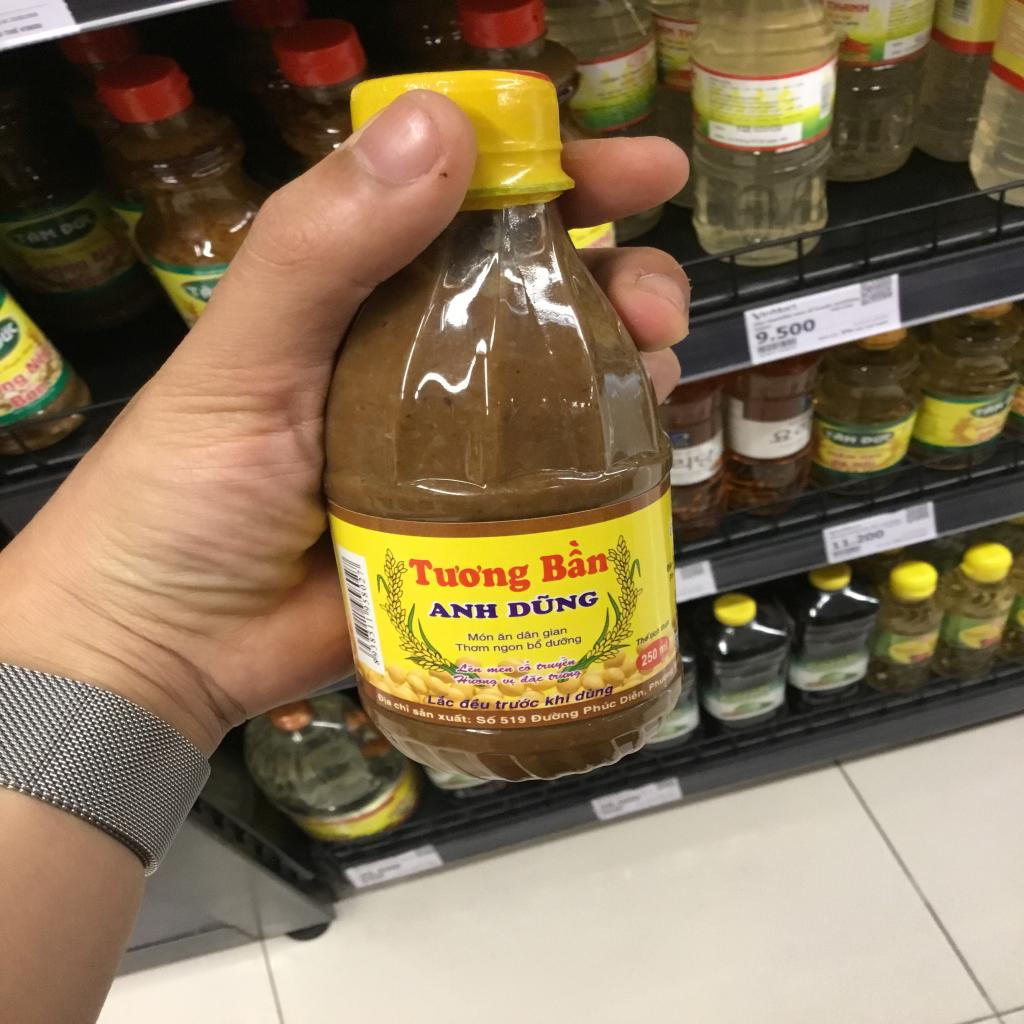text: (407, 554, 532, 594), (535, 535, 610, 583), (505, 588, 601, 619), (427, 601, 499, 619), (56, 210, 97, 238), (10, 224, 60, 246), (528, 708, 581, 726), (775, 318, 817, 340), (0, 318, 23, 356), (536, 654, 578, 674), (575, 684, 616, 704), (0, 370, 32, 395), (646, 666, 674, 694), (450, 674, 498, 688), (582, 698, 619, 716), (494, 697, 540, 711), (616, 686, 648, 706), (458, 697, 492, 713), (426, 692, 457, 709), (546, 669, 582, 683), (185, 282, 212, 300), (856, 529, 886, 545), (544, 636, 583, 648), (640, 646, 659, 669), (544, 692, 571, 707), (491, 644, 525, 655), (437, 712, 468, 724), (454, 643, 490, 653), (542, 626, 568, 639), (518, 673, 544, 686), (455, 662, 483, 674), (411, 706, 435, 720), (465, 632, 495, 642), (515, 630, 540, 642), (392, 700, 412, 714), (500, 716, 528, 726), (473, 714, 498, 725), (376, 692, 392, 708), (634, 631, 651, 646), (484, 666, 514, 674), (754, 330, 770, 345), (516, 660, 533, 674), (525, 638, 543, 650), (659, 638, 669, 656), (496, 632, 514, 641), (501, 678, 517, 687), (649, 627, 660, 640), (660, 619, 670, 633), (830, 540, 842, 551), (840, 538, 850, 548), (369, 643, 379, 652), (360, 590, 369, 598), (367, 622, 375, 630), (364, 605, 372, 613), (362, 598, 370, 606), (360, 584, 368, 592), (357, 569, 365, 577), (373, 658, 380, 666), (372, 650, 379, 658), (368, 630, 376, 637), (358, 577, 366, 584), (370, 636, 376, 644), (366, 617, 373, 623), (468, 717, 472, 724)
